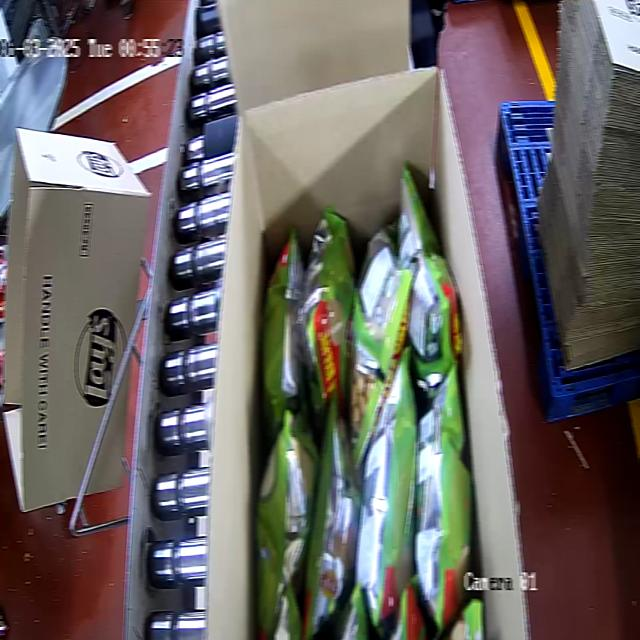YOGURT_HERB: (253, 163, 483, 638)
